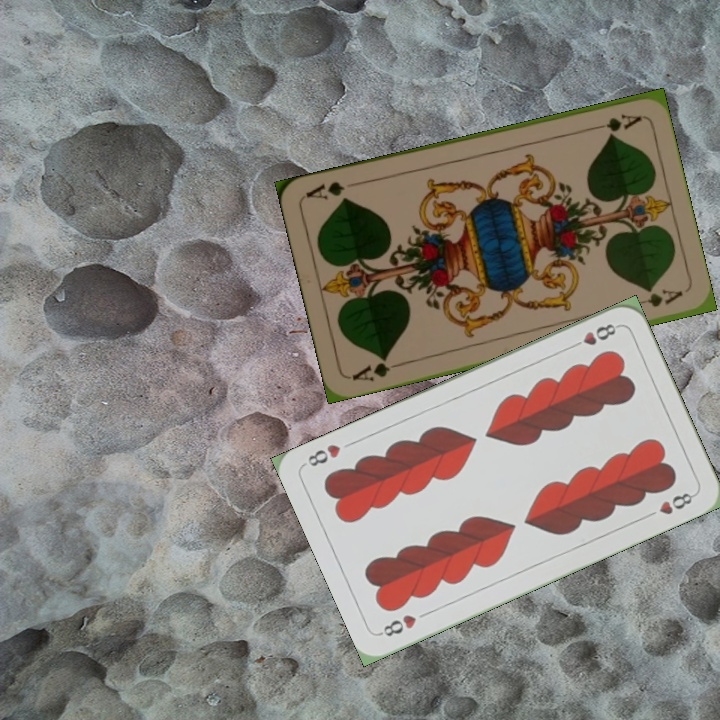GA: (348, 353, 405, 385), (585, 109, 644, 135)
H8: (566, 319, 622, 352), (376, 610, 419, 640)
